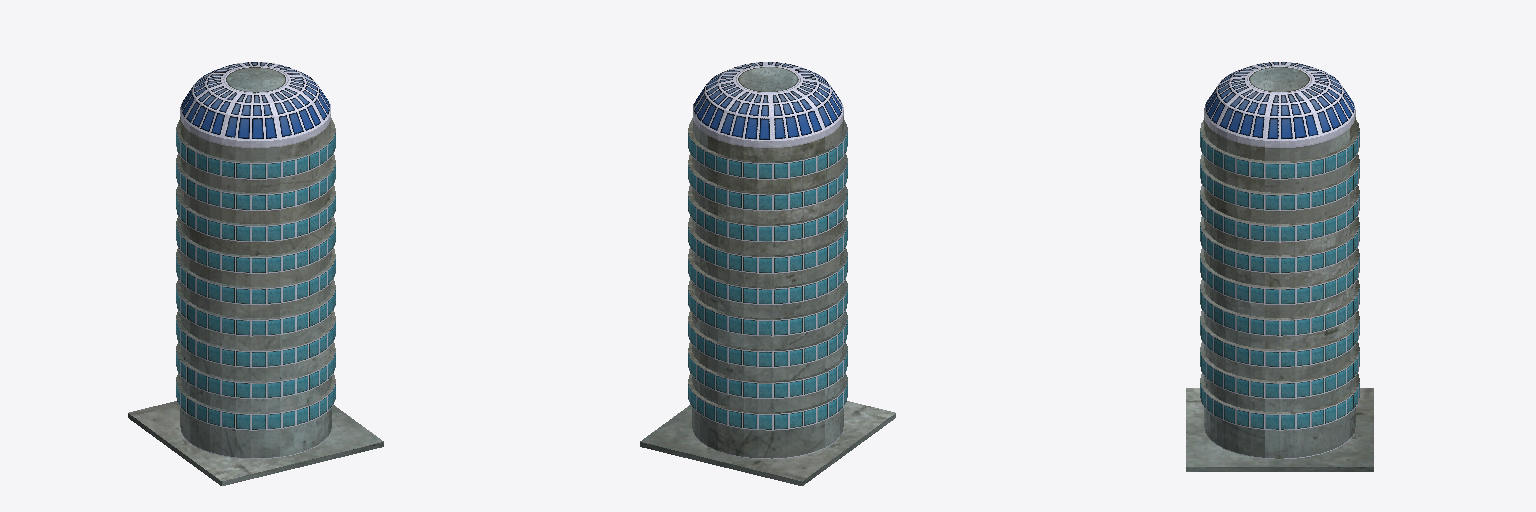
The picture shows the model from 3 angles: view 1: azimuth 30°, elevation 25°; view 2: azimuth 150°, elevation 25°; view 3: azimuth 270°, elevation 25°; orthographic projection.
Parts seen in each view (by area): view 1: Cylinder.002_Cylinder.010; view 2: Cylinder.002_Cylinder.010; view 3: Cylinder.002_Cylinder.010.
Boxes of the visible parts, <box> form: Cylinder.002_Cylinder.010: <box>128,62,383,485</box>; Cylinder.002_Cylinder.010: <box>640,62,895,485</box>; Cylinder.002_Cylinder.010: <box>1186,62,1373,471</box>.
Size of the model in its own units: 3.58 by 7.42 by 3.58.
1 materials, 1 textured.